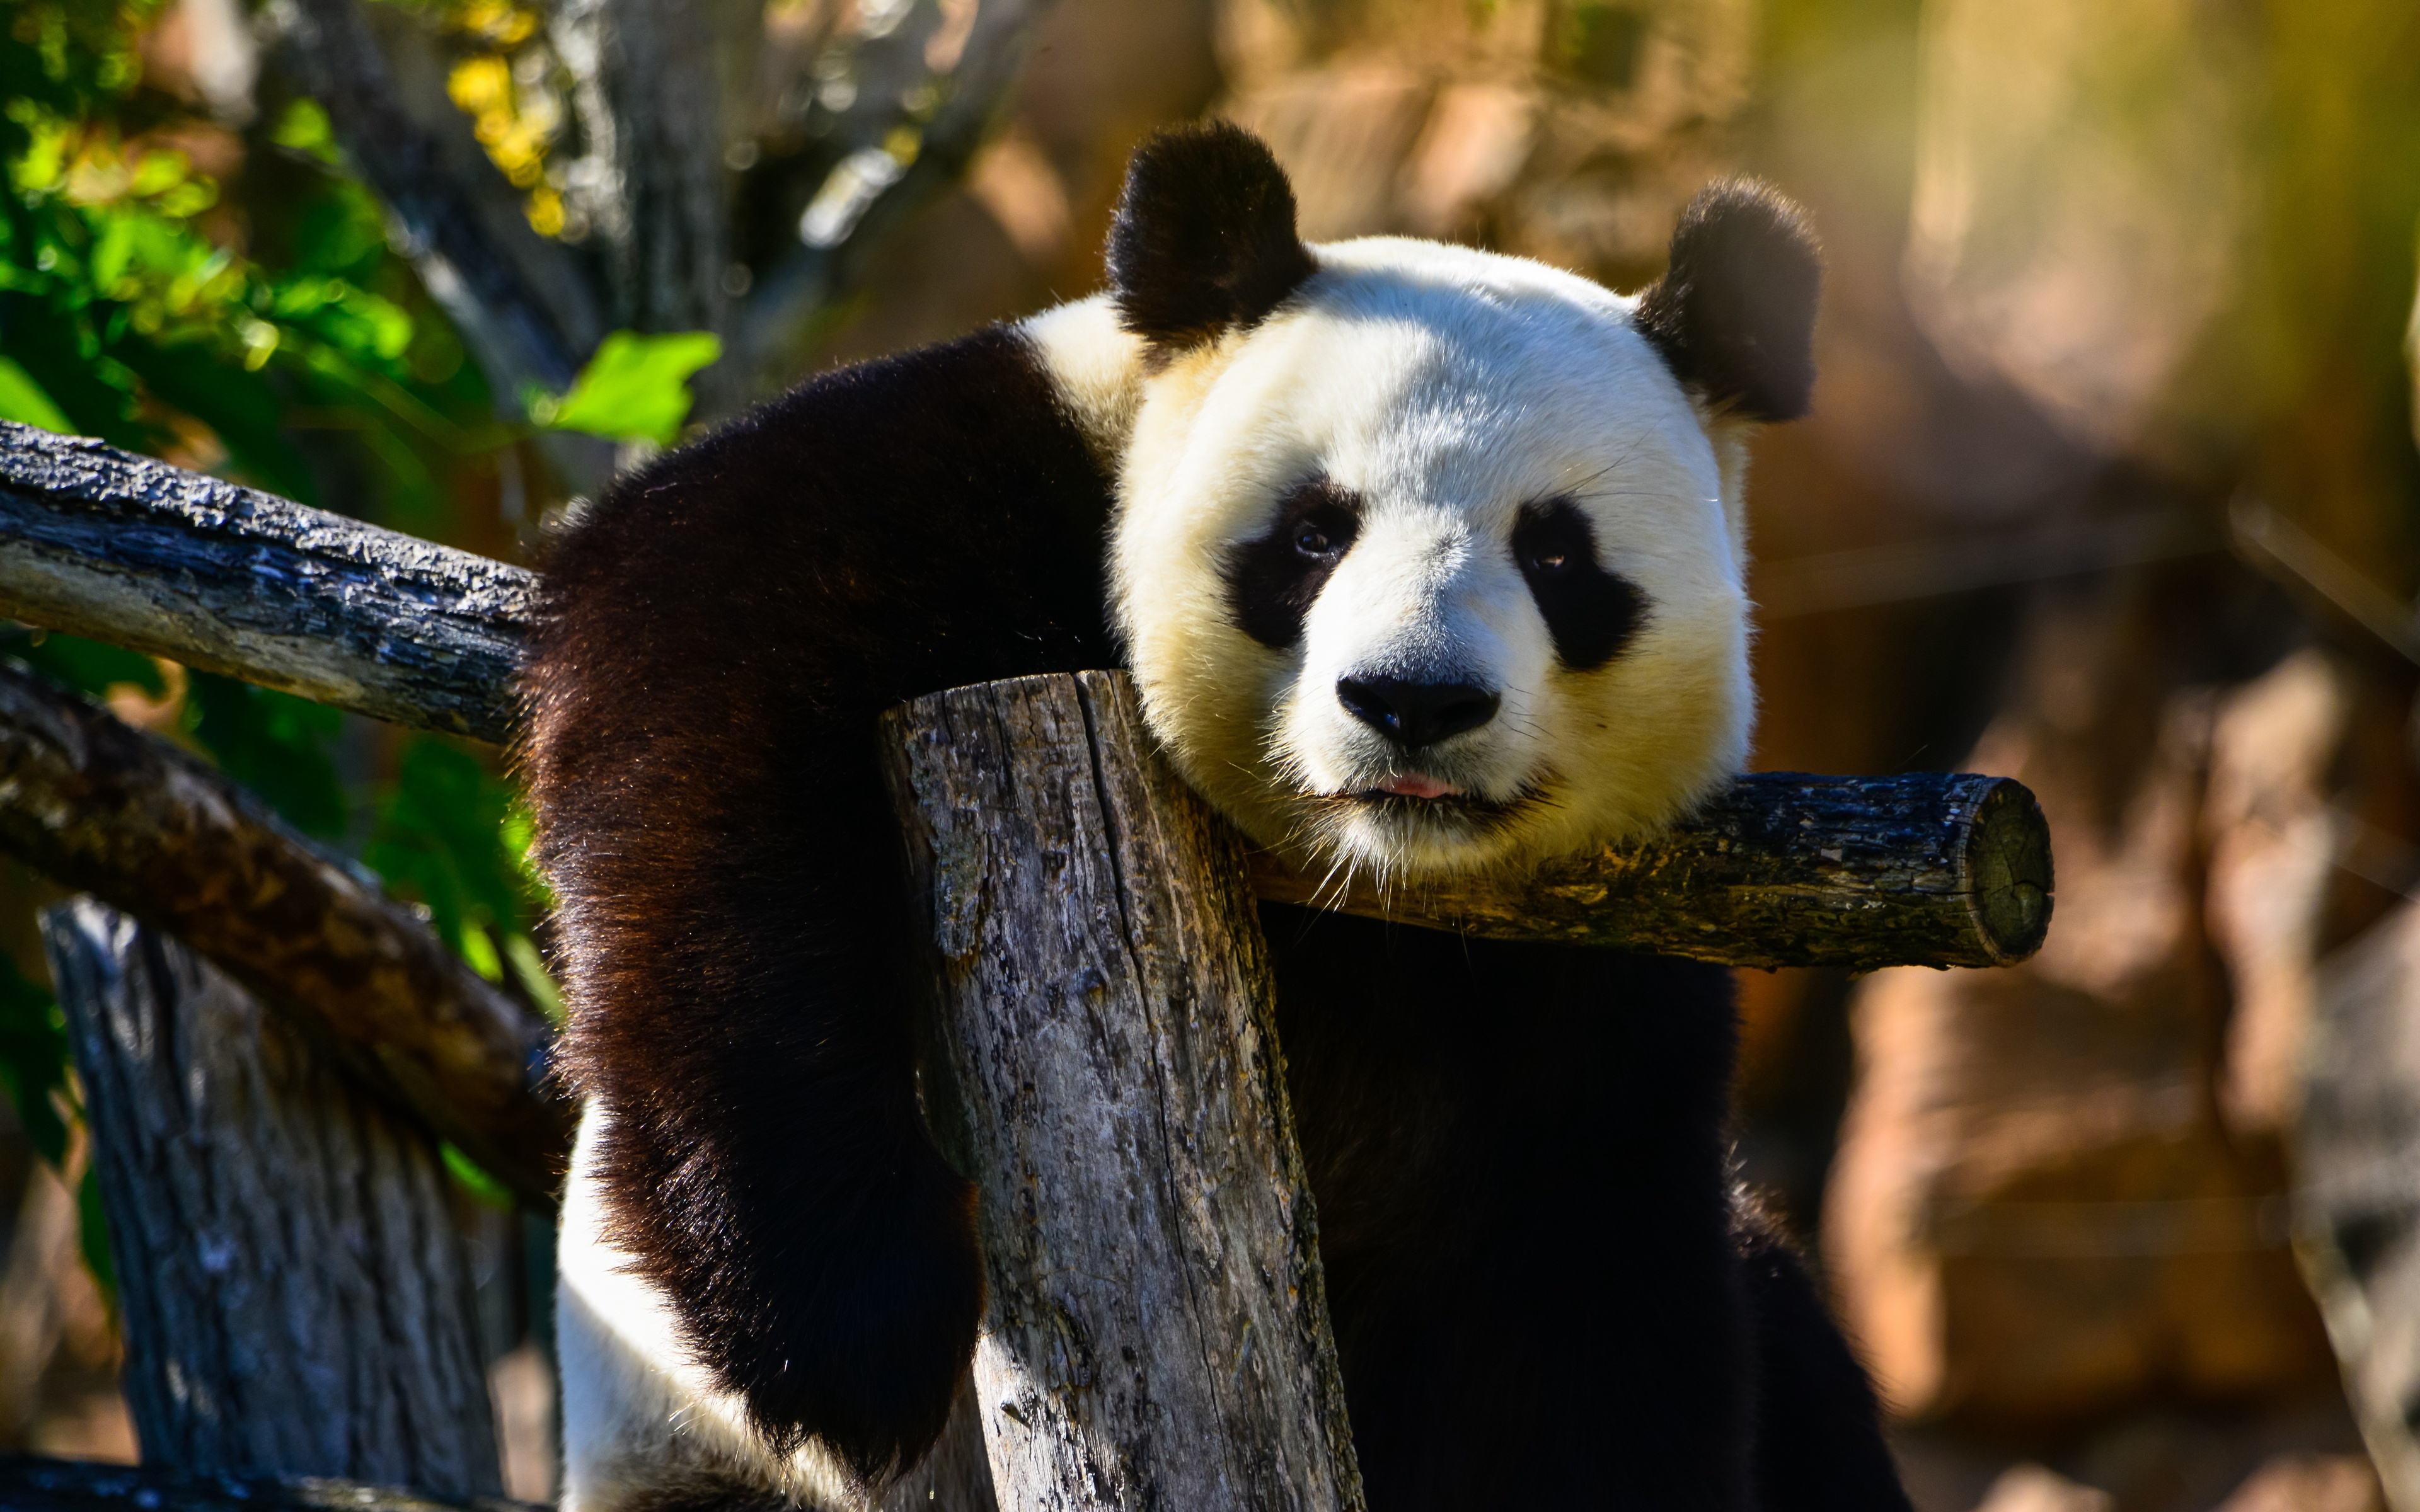panda: (495, 125, 1983, 1512)
